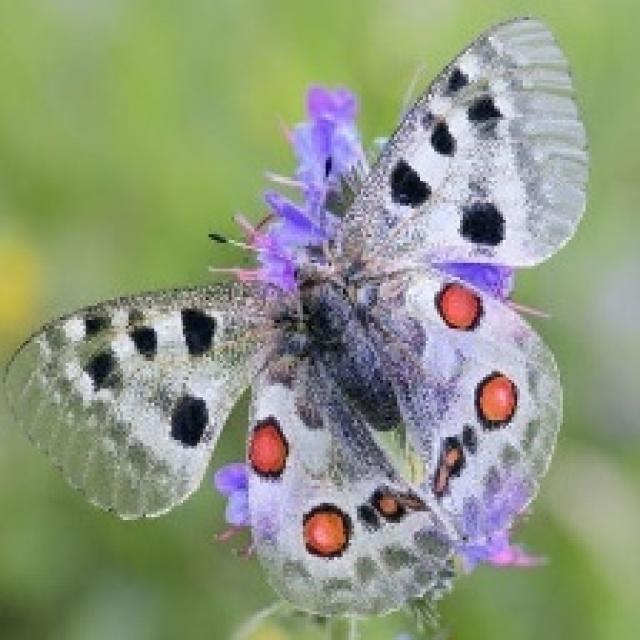butterfly: (0, 11, 589, 626)
